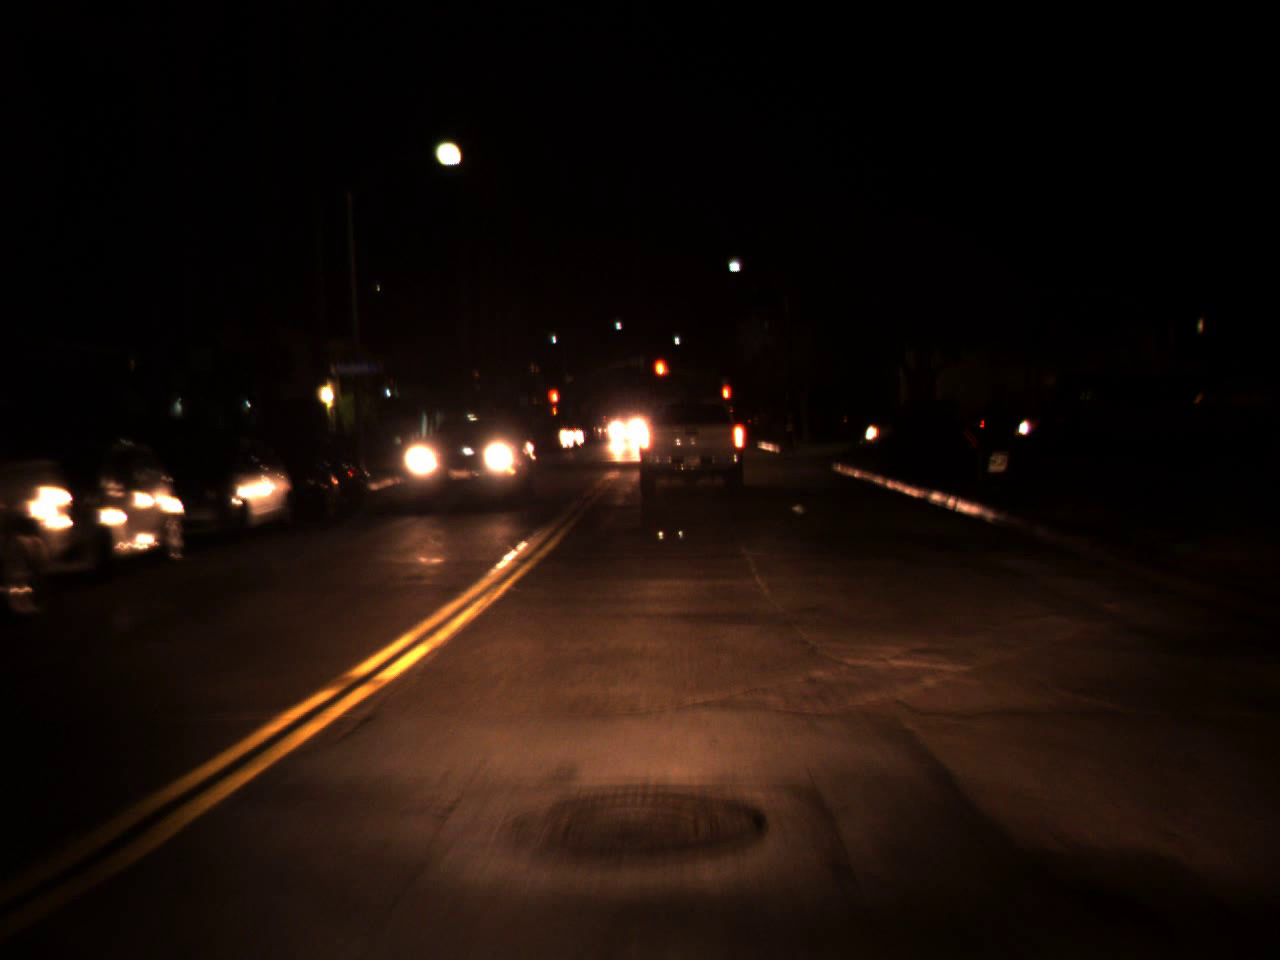stop: (652, 356, 670, 396), (546, 387, 559, 419), (721, 383, 731, 415)
